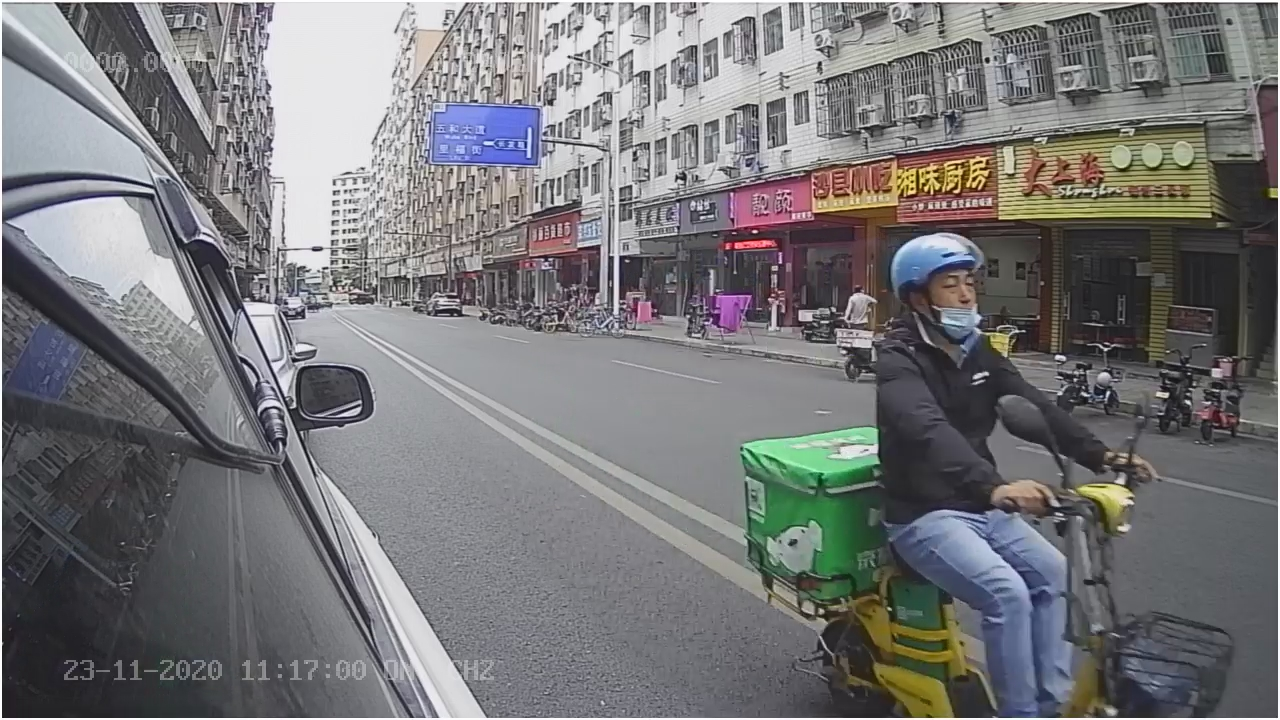person: (865, 223, 1162, 478)
